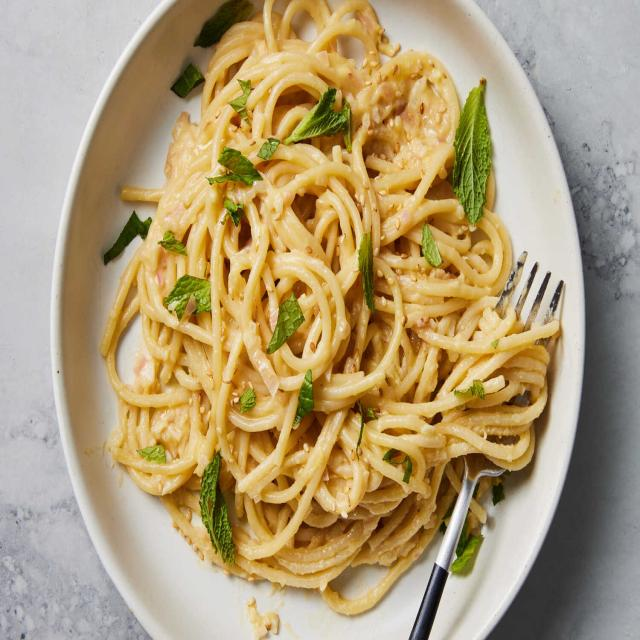pasta: (85, 2, 564, 619)
